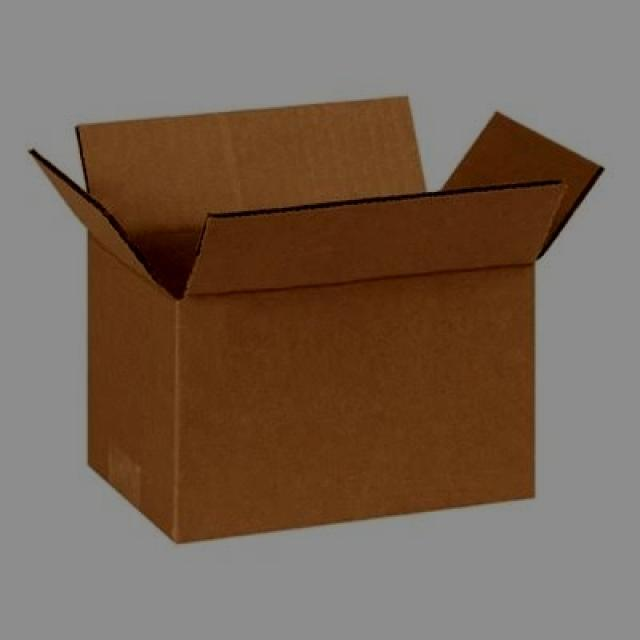paper: (25, 79, 632, 543)
